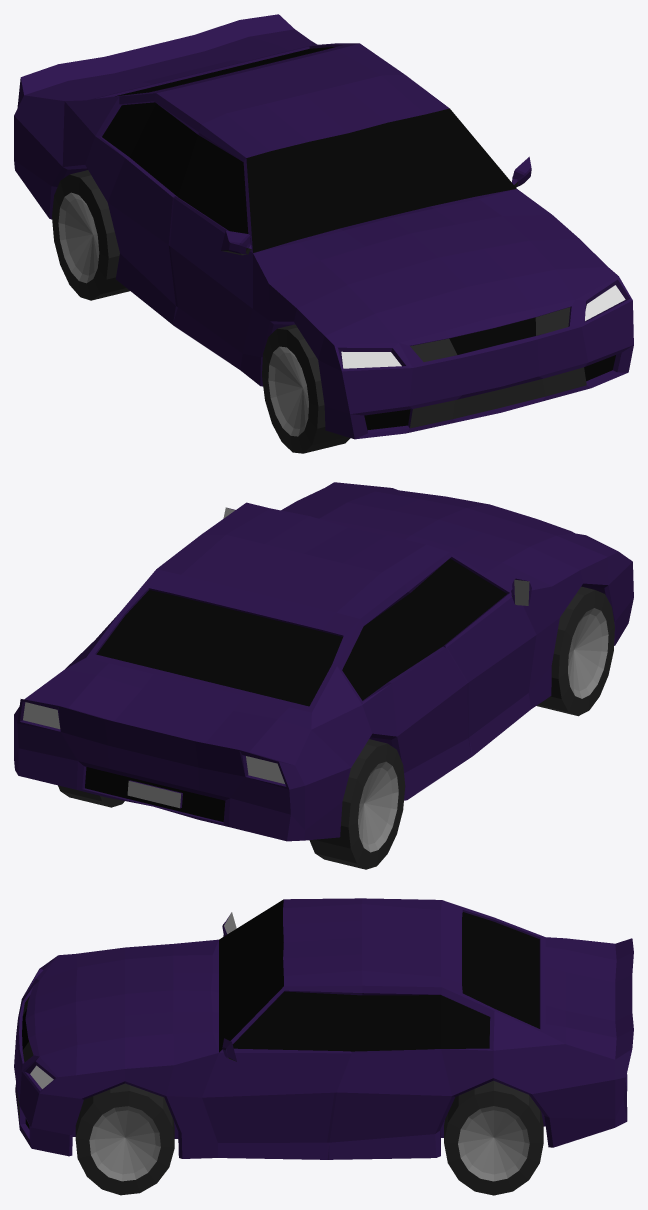
File: Sketchfab_2019_09_17_22_14_04.fbx
3 views of the same model, one above another, from view 1: azimuth 30°, elevation 25°; view 2: azimuth 150°, elevation 25°; view 3: azimuth 270°, elevation 25° (orthographic). The views are drawn at different scales.
Visible parts, largest first — view 1: Cube; view 2: Cube; view 3: Cube.
Boxes of the visible parts, box(x1,y1,x2,y2) form: Cube: box(14, 14, 633, 453); Cube: box(14, 482, 633, 869); Cube: box(14, 898, 633, 1195).
Size of the model in its own units: 1.59 by 1.1 by 3.17.
